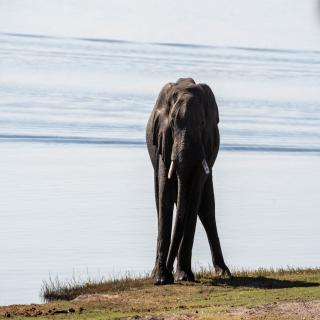Elephant: (142, 73, 240, 286)
